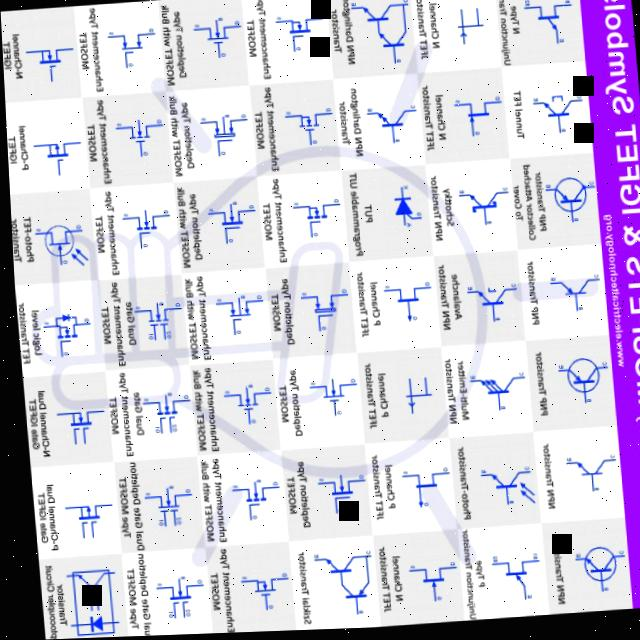diode: (383, 186, 420, 234), (74, 608, 98, 634), (52, 309, 71, 324)
mosfet: (29, 216, 87, 275), (134, 378, 185, 442), (279, 99, 334, 158), (110, 103, 161, 164), (55, 487, 108, 544), (105, 18, 156, 77), (116, 197, 168, 254), (128, 288, 179, 345), (189, 10, 239, 66), (146, 569, 195, 626), (370, 281, 430, 327), (208, 287, 261, 339), (47, 398, 101, 449), (520, 0, 575, 50), (137, 483, 190, 534), (268, 14, 325, 61), (296, 288, 348, 339), (221, 477, 275, 526), (203, 198, 255, 248), (232, 565, 283, 615), (396, 465, 443, 519), (287, 197, 341, 244), (22, 39, 72, 88), (196, 109, 244, 160), (312, 467, 358, 520), (389, 372, 434, 426), (486, 548, 529, 604), (216, 380, 266, 427), (405, 562, 453, 610), (450, 93, 499, 138), (29, 135, 78, 179), (446, 5, 488, 48), (308, 377, 351, 418), (47, 321, 80, 350)
transistor: (556, 447, 613, 508), (468, 461, 531, 515), (465, 367, 519, 422), (364, 97, 414, 153), (454, 181, 508, 231), (459, 280, 510, 327), (569, 548, 618, 596), (555, 354, 601, 404), (544, 177, 589, 223), (529, 92, 576, 134), (549, 271, 593, 315), (328, 579, 366, 619), (311, 549, 350, 587), (353, 0, 395, 35), (368, 26, 410, 60), (64, 560, 105, 594)
